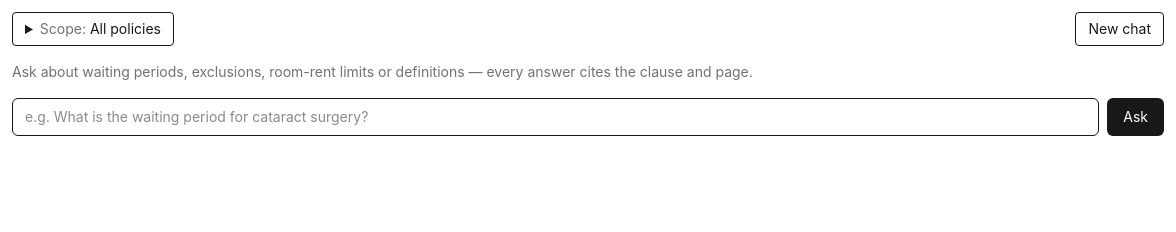
Test case: ChatView › shows the stream error text for a failed generation and lets the user retry it
Step 1. Type "retry me" into the field → (556, 117), box [12,98,1099,136]
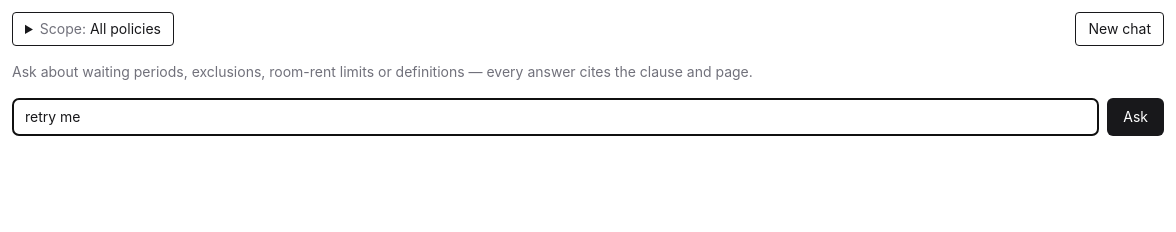
Step 2. Click the button "Ask" → (1136, 117), box [1107,98,1164,136]
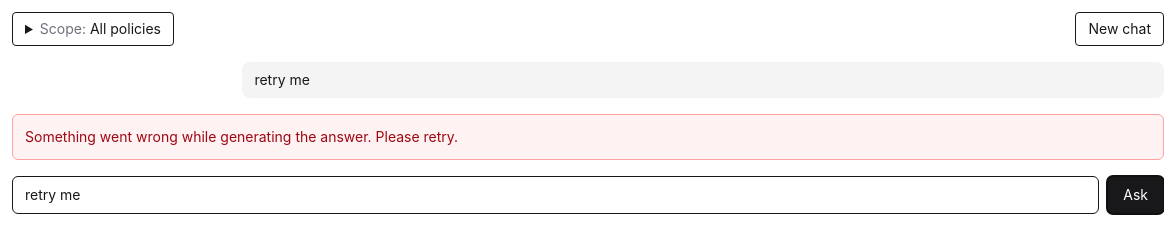
expect the field is enabled: met, box [12,176,1099,214]
expect the message shows "Something went wrong": met, box [25,128,458,145]
Step 3. Click the button "Ask" → (1136, 195), box [1107,176,1164,214]
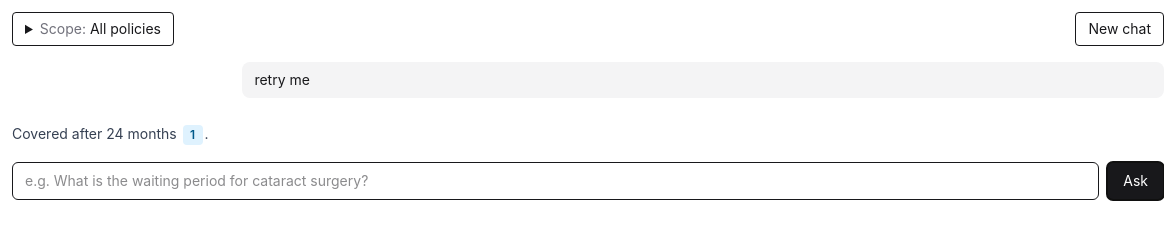
expect the button named "source 1" is shown: met, box [183,125,203,145]
expect the message "Something went wrong while generating the answer. Please retry." is gone: met
